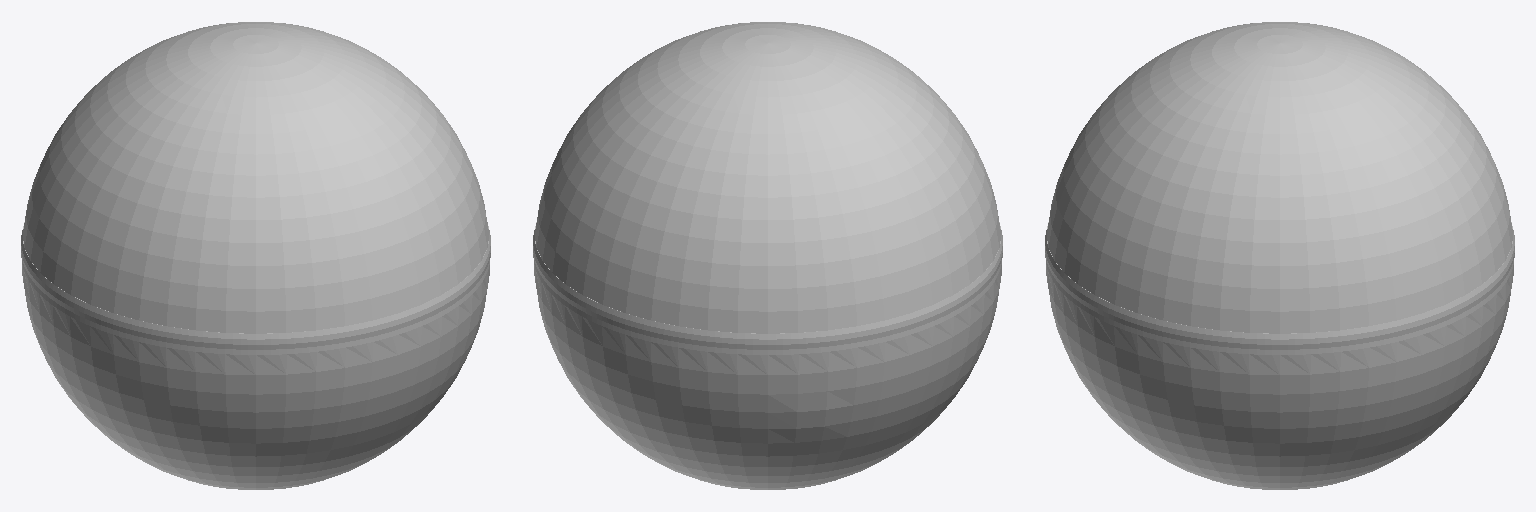
File: pingpong_blender.obj
3 renders of one model, left to right at view 1: azimuth 30°, elevation 25°; view 2: azimuth 150°, elevation 25°; view 3: azimuth 270°, elevation 25°, orthographic.
Parts seen in each view (by area): view 1: Sphere; view 2: Sphere; view 3: Sphere.
Part boxes in pixels (left/top/right/bottom): Sphere: left=21, top=22, right=490, bottom=489; Sphere: left=533, top=22, right=1002, bottom=489; Sphere: left=1045, top=22, right=1514, bottom=489.
Size of the model in its own units: 2.01 by 2 by 2.01.